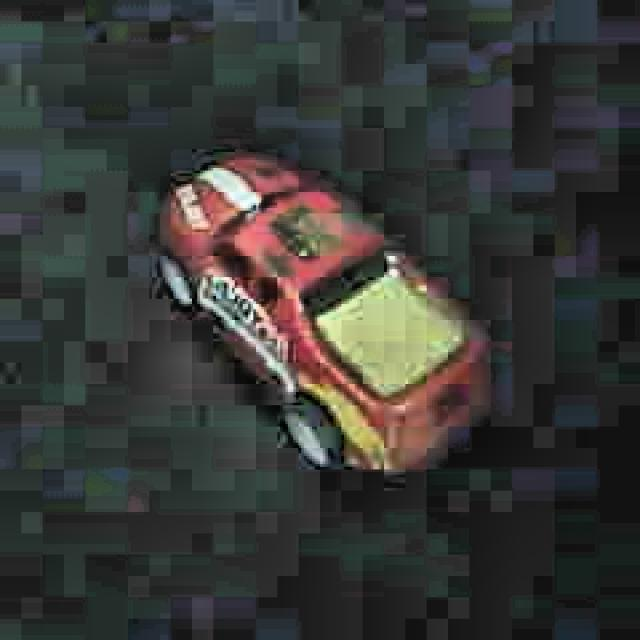car: (150, 134, 499, 493)
